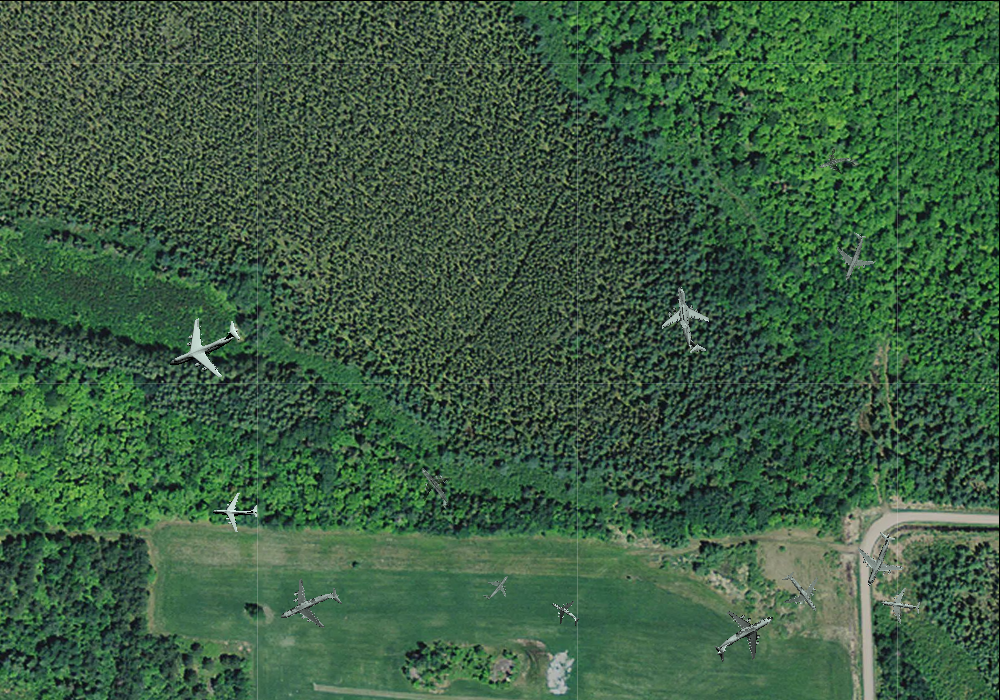plane: (155, 299, 252, 394), (700, 593, 789, 679), (268, 565, 351, 646), (654, 281, 722, 358), (843, 524, 914, 596), (402, 456, 466, 520), (770, 561, 833, 624), (823, 225, 884, 288), (211, 489, 258, 534), (544, 591, 587, 634), (879, 584, 923, 626), (814, 142, 858, 183), (476, 567, 517, 608)
